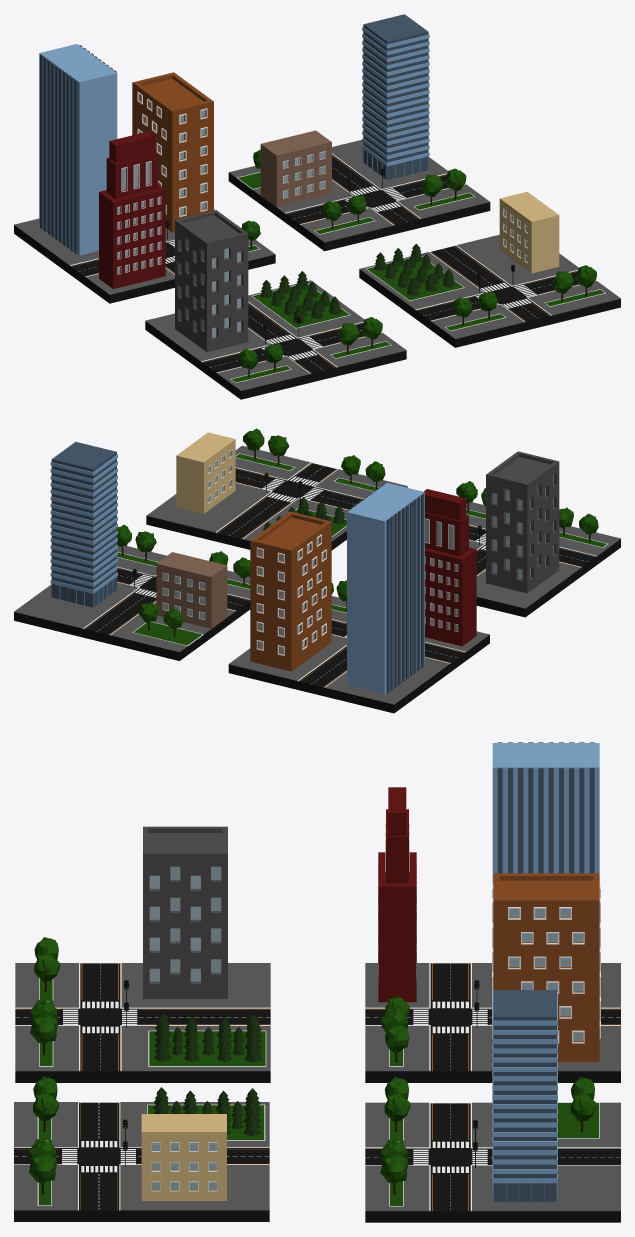
Rendered from uploads_files_2313952_Dream_City_coloured.fbx.
The picture shows the model from 3 angles, top to bottom: view 1: azimuth 30°, elevation 25°; view 2: azimuth 150°, elevation 25°; view 3: azimuth 270°, elevation 25°; orthographic projection. The views are drawn at different scales.
Parts seen in each view (by area): view 1: Group046, Box036, Box037, Plane004, Plane003, Plane005, Box033, Box034, Plane001, Box022, Box015, Box029 (+13 smaller); view 2: Group046, Box036, Box037, Plane004, Box033, Plane003, Plane001, Box034, Box022, Box015, Plane005, Box029 (+11 smaller); view 3: Group046, Box037, Box036, Plane005, Plane003, Plane004, Box034, Plane001, Box015, Box022, Box029, Box028 (+18 smaller).
Boxes of the visible parts, bbox=[...] form: Group046: bbox=[39, 44, 213, 288]; Box036: bbox=[362, 14, 429, 180]; Box037: bbox=[175, 210, 248, 352]; Plane004: bbox=[359, 246, 620, 347]; Plane003: bbox=[228, 155, 490, 251]; Plane005: bbox=[145, 303, 406, 399]; Box033: bbox=[260, 130, 331, 207]; Box034: bbox=[499, 191, 559, 273]; Plane001: bbox=[14, 225, 275, 303]; Box022: bbox=[456, 234, 578, 285]; Box015: bbox=[332, 140, 447, 189]; Box029: bbox=[145, 313, 269, 361]; Group046: bbox=[250, 483, 476, 694]; Box036: bbox=[50, 441, 117, 607]; Box037: bbox=[486, 451, 559, 593]; Plane004: bbox=[146, 463, 407, 550]; Box033: bbox=[156, 552, 227, 628]; Plane003: bbox=[14, 568, 250, 660]; Plane001: bbox=[228, 620, 489, 713]; Box034: bbox=[176, 432, 235, 513]; Box022: bbox=[146, 483, 270, 532]; Box015: bbox=[14, 582, 137, 628]; Plane005: bbox=[469, 525, 620, 617]; Box029: bbox=[476, 562, 580, 608]; Group046: bbox=[378, 742, 600, 1061]; Box037: bbox=[143, 826, 227, 998]; Box036: bbox=[492, 990, 557, 1201]; Plane005: bbox=[15, 963, 270, 1082]; Plane003: bbox=[365, 1103, 620, 1222]; Plane004: bbox=[14, 1102, 269, 1221]; Box034: bbox=[141, 1114, 226, 1200]; Plane001: bbox=[365, 963, 620, 1082]; Box015: bbox=[472, 1165, 620, 1211]; Box022: bbox=[120, 1165, 269, 1210]; Box029: bbox=[121, 963, 270, 1007]; Box028: bbox=[121, 1026, 270, 1071].
Size of the model in its own units: 230 by 105 by 238.
